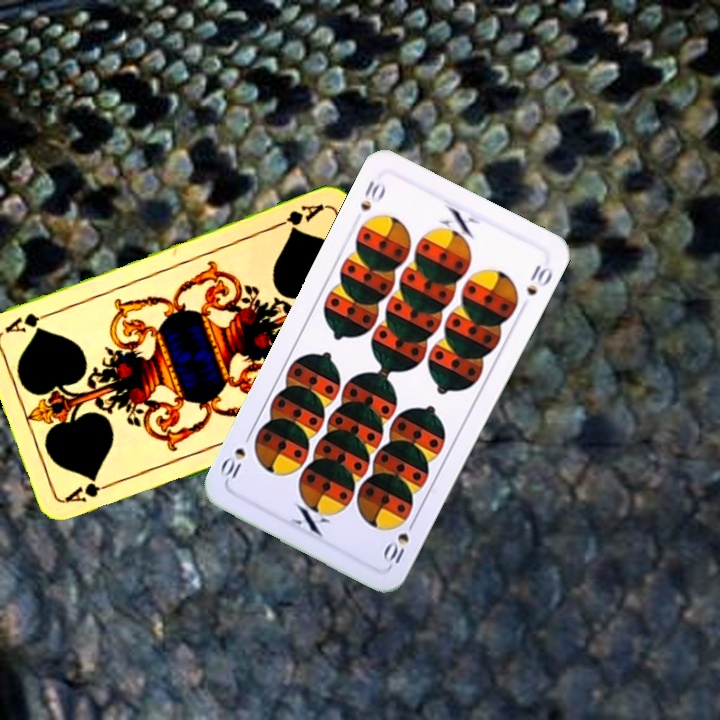GA: (269, 200, 327, 235), (62, 476, 119, 505)
S10: (380, 515, 419, 569), (356, 175, 389, 215)
